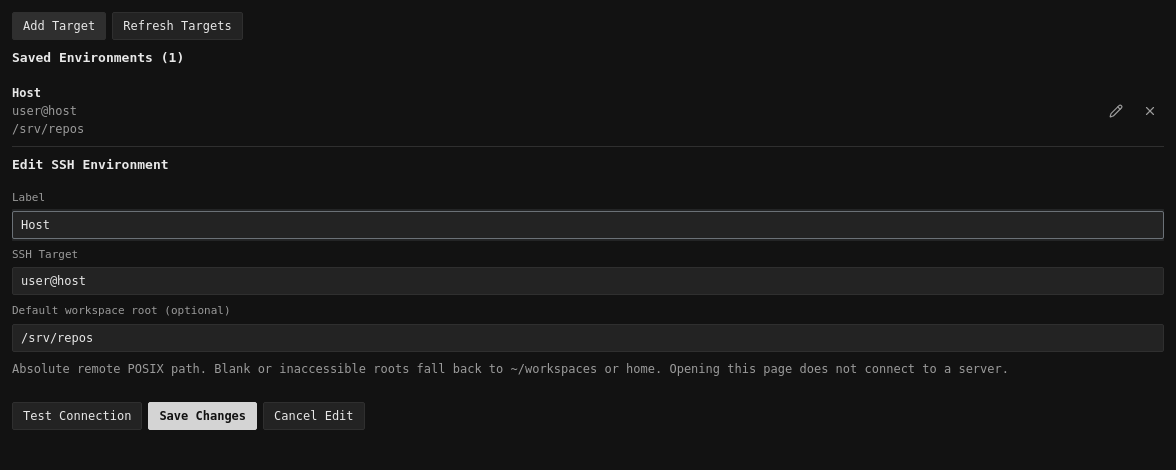
it: canonical SSH Targets › validates SSH Target before mutation
The width and height of the screenshot is (1176, 470).
expect the heading "Saved Environments (1)" is shown: met, box [12, 50, 184, 65]
Replace the text in the field labelled "SSH Target" with "-bad" at (588, 281), box [12, 267, 1164, 295]
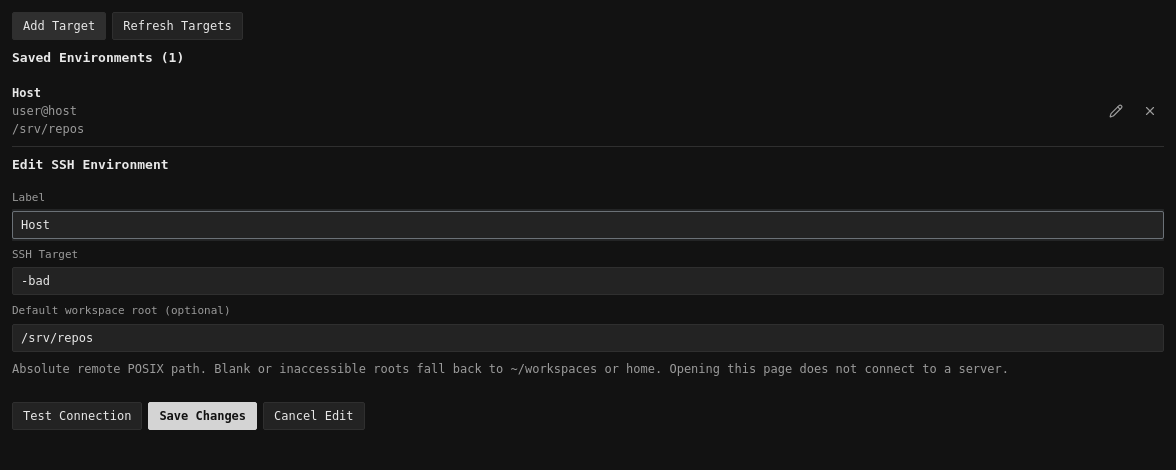
Click the button "Save Changes" at (203, 416), box [148, 402, 257, 430]
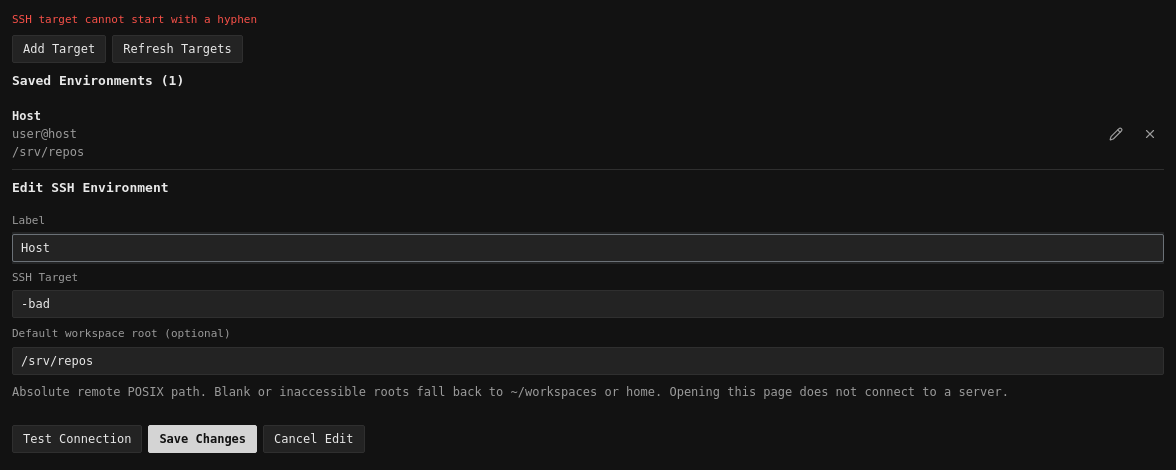
expect the message "SSH target cannot start with a hyphen" is shown: met, box [12, 13, 257, 26]
